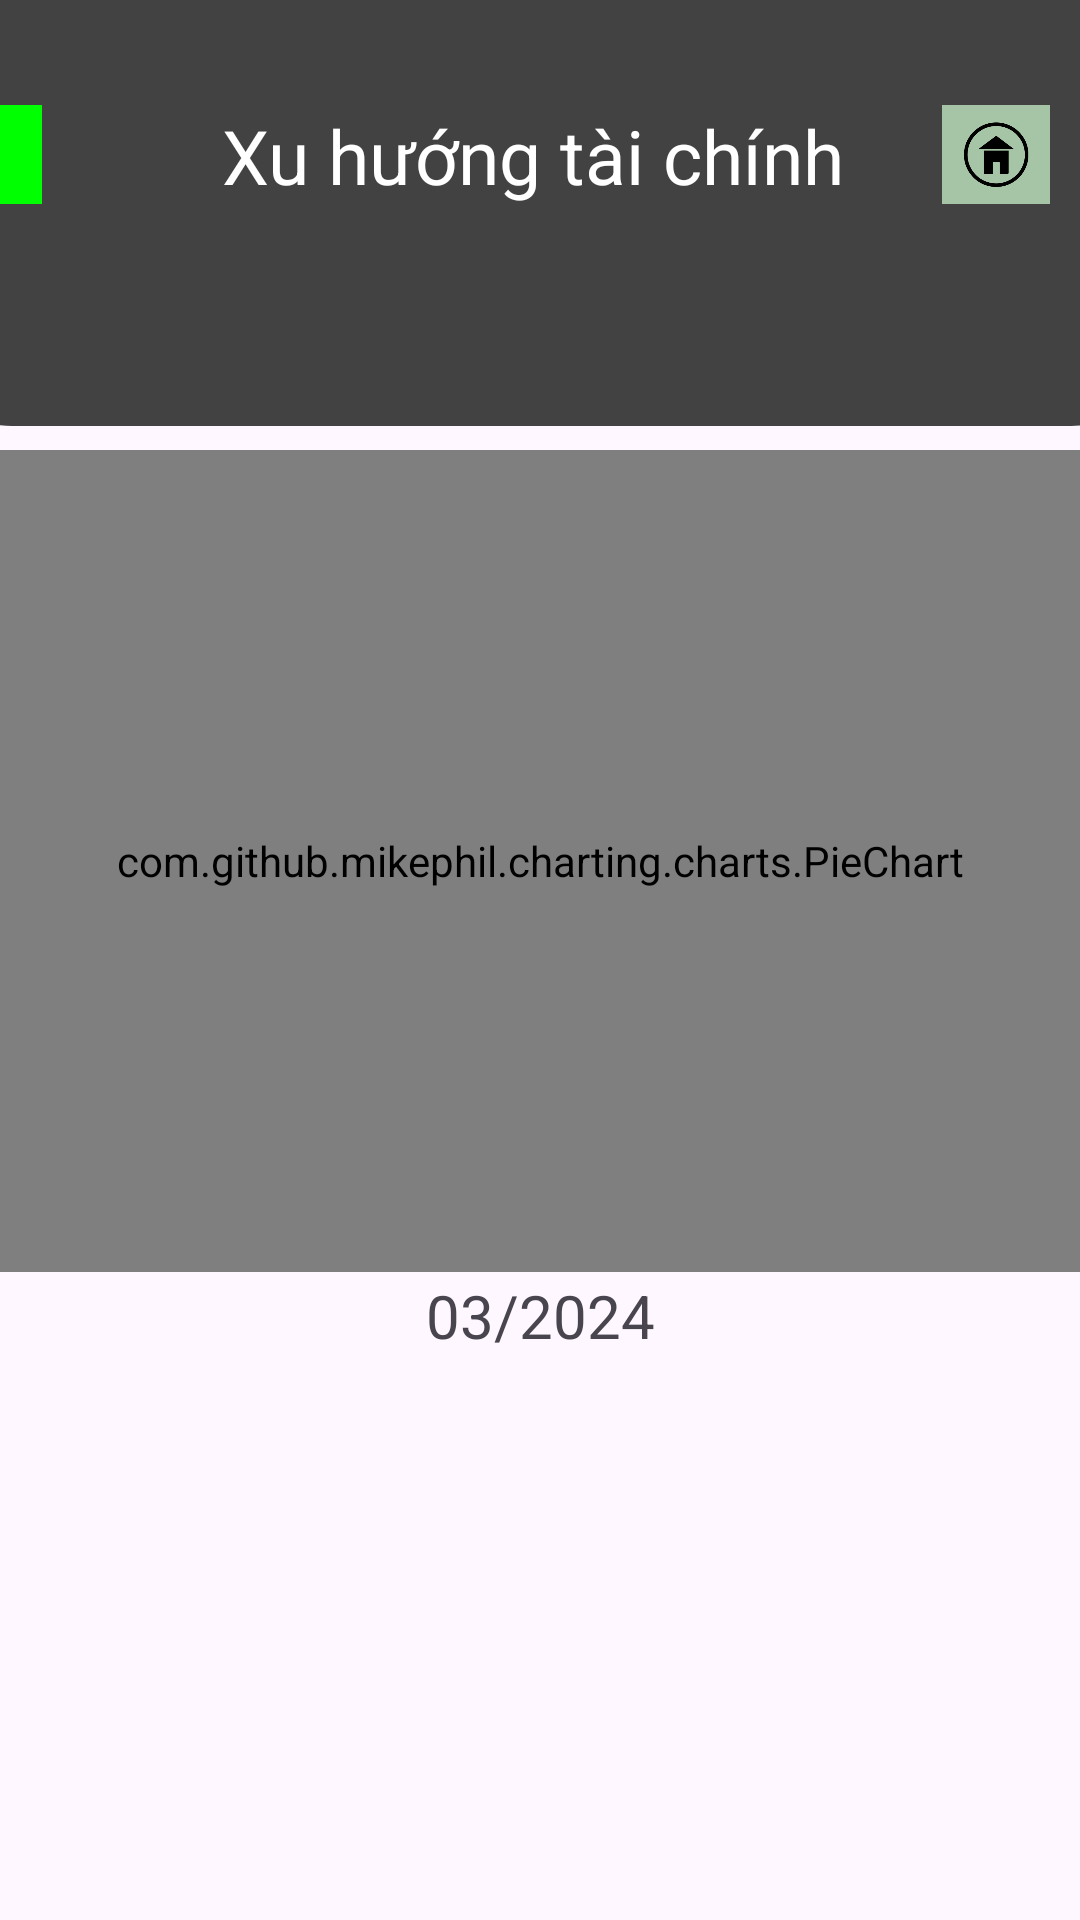

Named icons in this screenshot (1080*1920) and their bounding boxes, (x1, y1, x2, y2):
home: (942, 105, 1050, 204)
